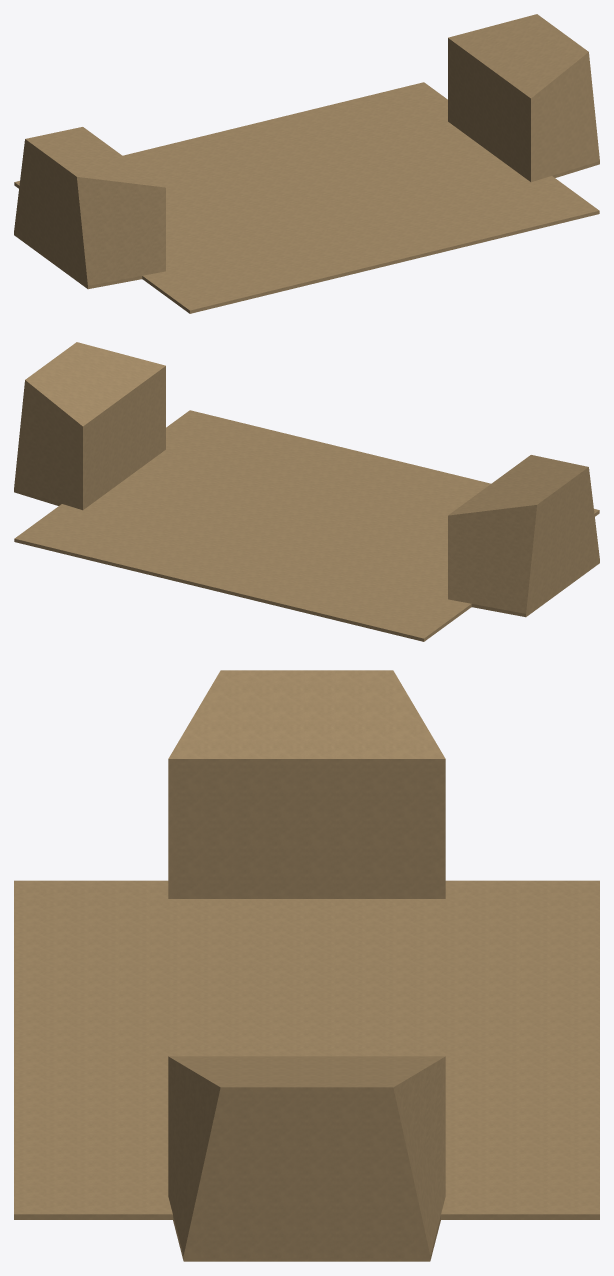
The model's file is yong-apron-LOD0.glb.
The picture shows the model from 3 angles, top to bottom: view 1: azimuth 30°, elevation 25°; view 2: azimuth 150°, elevation 25°; view 3: azimuth 270°, elevation 25°; orthographic projection. The views are drawn at different scales.
Parts seen in each view (by area): view 1: yong-apron-C-LOD0, retained_adapter_positive, retained_adapter_negative; view 2: yong-apron-C-LOD0, retained_adapter_positive, retained_adapter_negative; view 3: yong-apron-C-LOD0, retained_adapter_negative, retained_adapter_positive.
Part boxes in pixels (bbox=[...]): yong-apron-C-LOD0: bbox=[14, 82, 599, 313]; retained_adapter_positive: bbox=[448, 14, 599, 182]; retained_adapter_negative: bbox=[14, 127, 165, 285]; yong-apron-C-LOD0: bbox=[14, 410, 599, 641]; retained_adapter_positive: bbox=[14, 342, 165, 510]; retained_adapter_negative: bbox=[448, 455, 599, 613]; yong-apron-C-LOD0: bbox=[14, 880, 599, 1261]; retained_adapter_negative: bbox=[168, 670, 445, 898]; retained_adapter_positive: bbox=[168, 1056, 445, 1255].
Bounding box in the file's own units: 32 × 6.23 × 19.
1 material, 1 textured.
